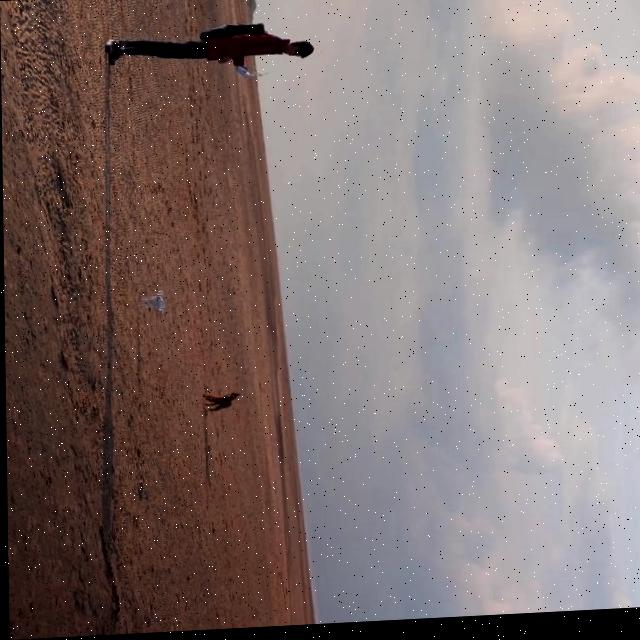drone: (139, 289, 172, 314)
